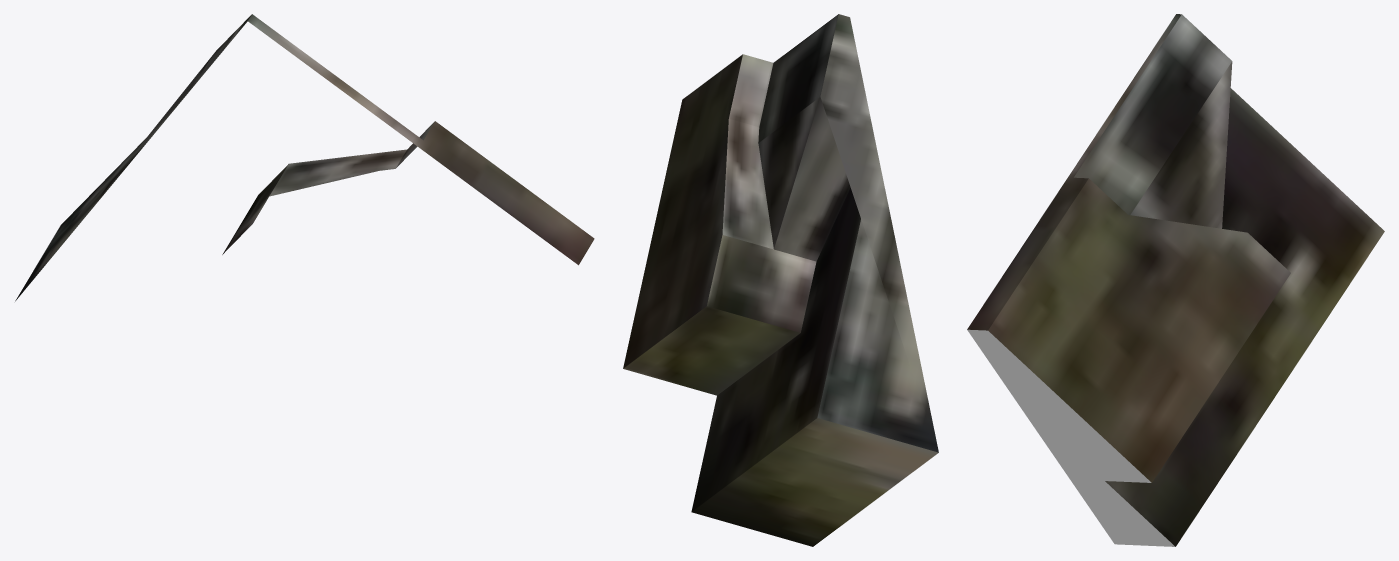
The model's file is 39539_bldg_Building.glb.
3 renders of one model, left to right at view 1: azimuth 30°, elevation 25°; view 2: azimuth 150°, elevation 25°; view 3: azimuth 270°, elevation 25°, orthographic. The views are drawn at different scales.
Size of the model in its own units: 9.78 by 12 by 9.04.
Materials: 2 (1 with a texture image).
